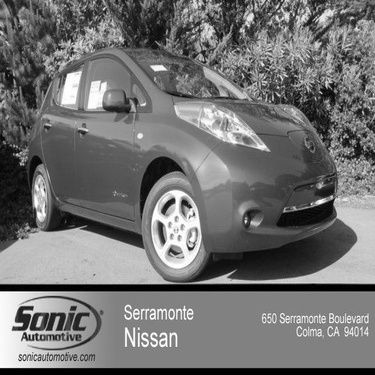car: (18, 39, 348, 286)
